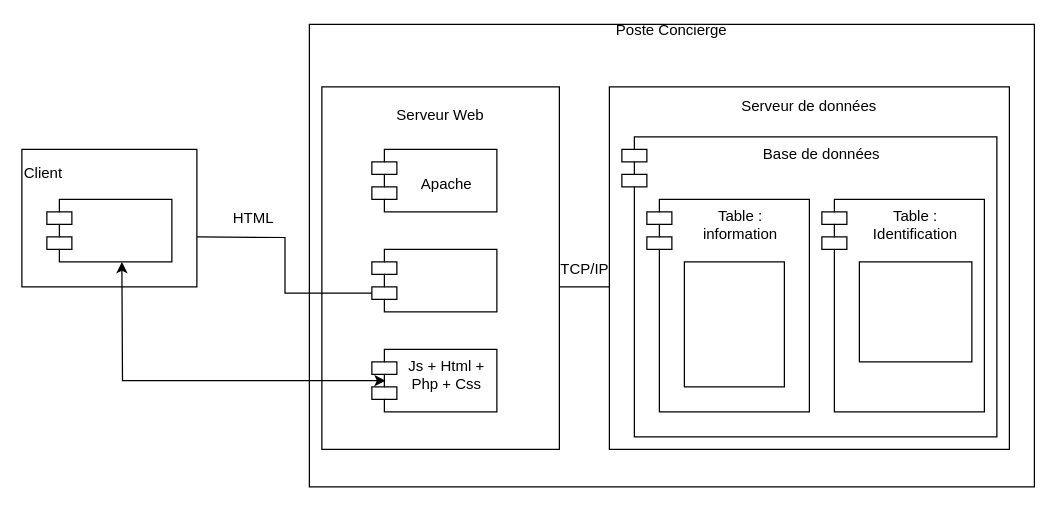
This 1056x510 diagram has some shape labels left out. The shapes that lost their labels are listed below. From the top down, each one's centre as x and y in pixels, then its label:
At (x=109, y=230): "Navigateur Web".
At (x=434, y=280): "FTP".
At (x=733, y=324): "Entité - Info plaque -info prénom -info nom".
At (x=915, y=311): "Entité - Identificat° ID - Identificat° MDP".
